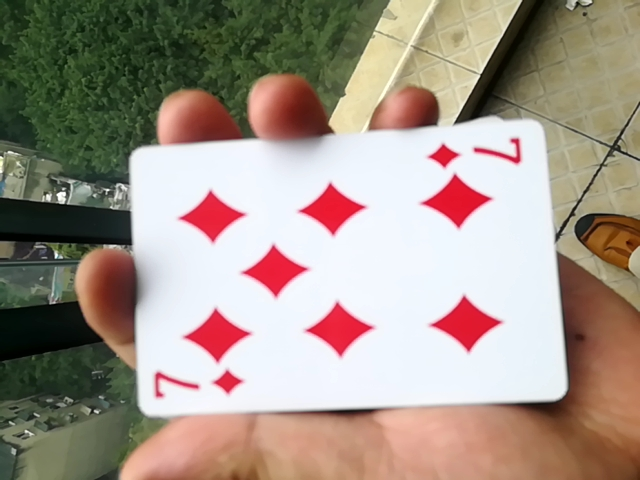fk 7: (118, 124, 565, 432)
